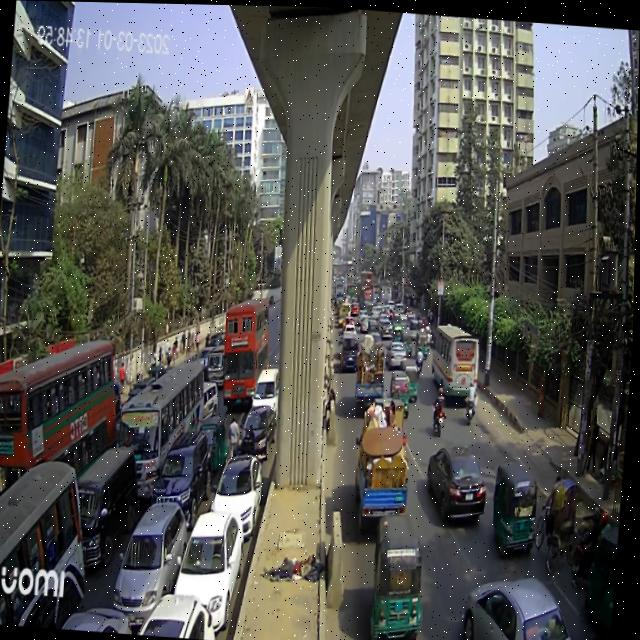cng: (370, 499, 430, 640), (488, 454, 547, 562), (199, 409, 230, 476), (384, 370, 413, 424), (401, 357, 424, 404), (415, 328, 431, 367), (393, 317, 407, 350)
rikshaw: (533, 473, 581, 566)
